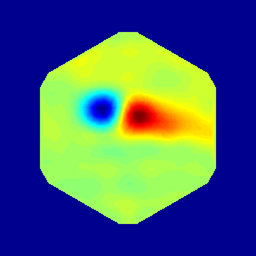ship: (87, 99, 126, 118)
wave: (116, 106, 180, 129)
